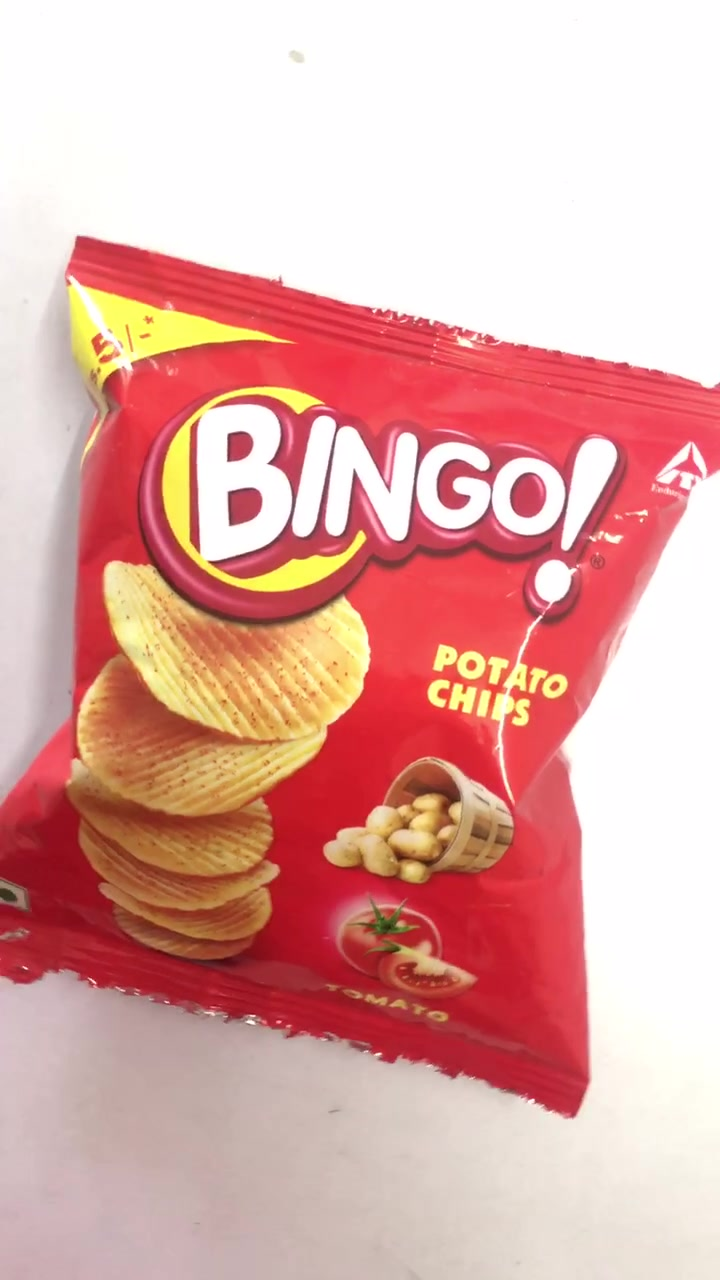Bingo: (9, 242, 720, 1092)
